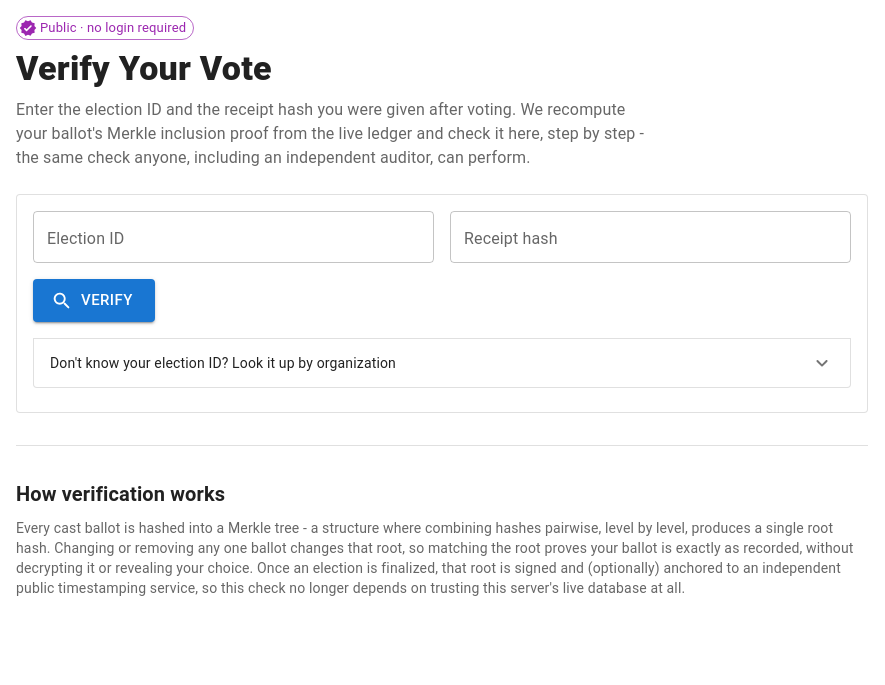
it: Verify Page › Form Validation › shows a validation message when submitted empty
Click the button "Verify" at (94, 301), box [33,279,155,322]
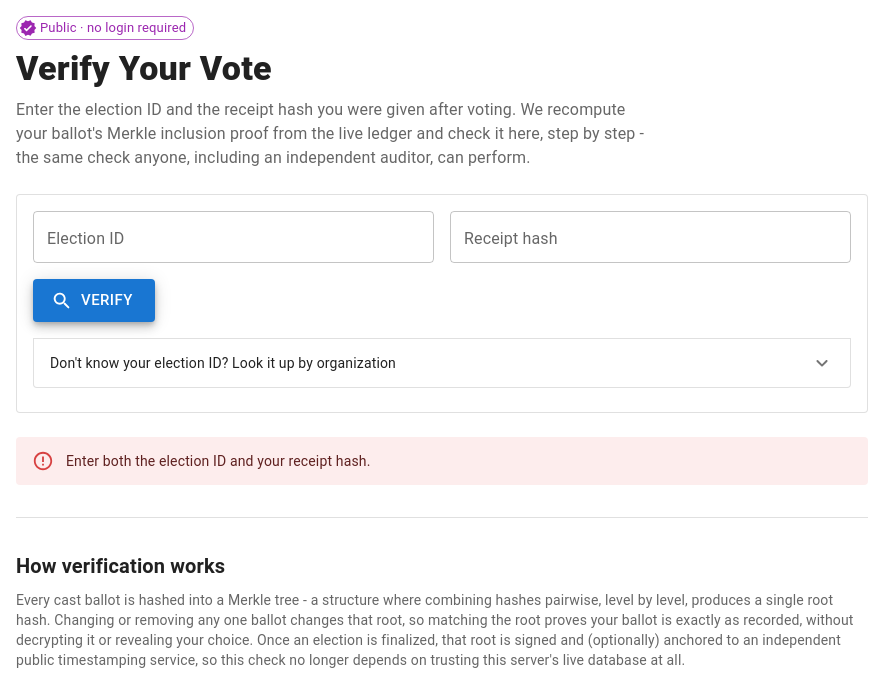
expect the text "Enter both the election ID and your receipt hash." is shown: met, box [66,453,370,469]
